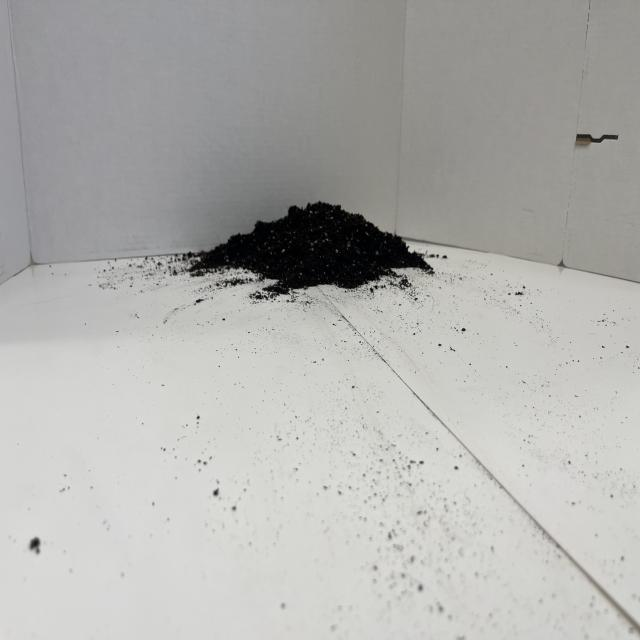soil: (185, 197, 435, 297)
